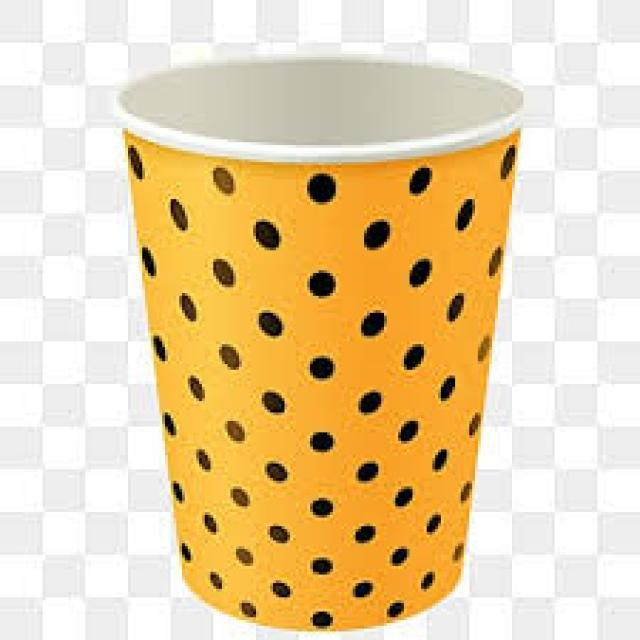PaperCardboard: (112, 55, 528, 633)
